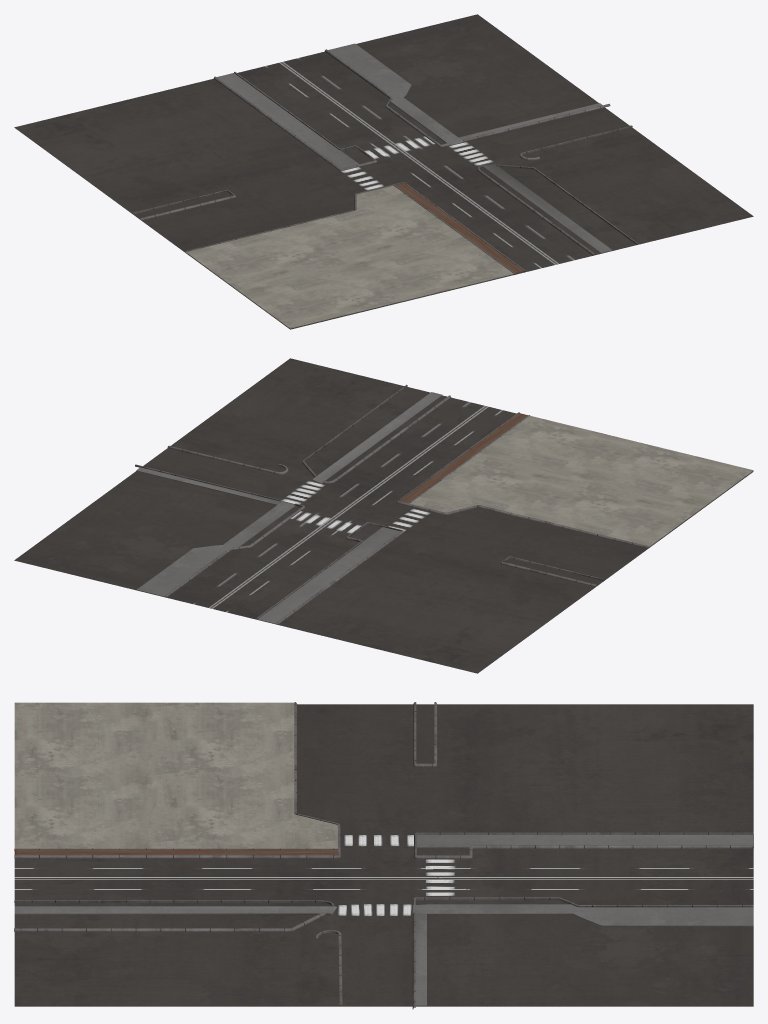
The model's file is road1.fbx.
3 views of the same model, one above another, from view 1: azimuth 30°, elevation 25°; view 2: azimuth 150°, elevation 25°; view 3: azimuth 270°, elevation 25° (orthographic). The views are drawn at different scales.
Parts seen in each view (by area): view 1: Plane.001, Plane.005, Plane.003, Plane.004, Plane.002, Plane.010, Plane.009, Plane.011, Plane.012; view 2: Plane.001, Plane.005, Plane.003, Plane.004, Plane.002, Plane.009, Plane.010, Plane.011, Plane.012; view 3: Plane.001, Plane.005, Plane.003, Plane.004, Plane.002, Plane.010, Plane.009, Plane.007, Plane.012, Plane.008, Plane.015, Plane.011.
Boxes of the visible parts, box(x1,y1,x2,y2) form: Plane.001: box(14, 14, 753, 329); Plane.005: box(186, 183, 524, 328); Plane.003: box(328, 43, 602, 145); Plane.004: box(216, 73, 358, 168); Plane.002: box(483, 164, 612, 252); Plane.010: box(213, 72, 377, 170); Plane.009: box(185, 182, 526, 272); Plane.011: box(132, 189, 236, 220); Plane.012: box(325, 49, 451, 147); Plane.001: box(14, 358, 753, 673); Plane.005: box(399, 413, 753, 546); Plane.003: box(136, 467, 295, 596); Plane.004: box(257, 527, 400, 623); Plane.002: box(313, 392, 442, 483); Plane.009: box(396, 412, 649, 548); Plane.010: box(255, 521, 403, 624); Plane.011: box(501, 556, 604, 586); Plane.012: box(165, 503, 305, 597); Plane.001: box(14, 704, 753, 1006); Plane.005: box(14, 702, 337, 854); Plane.003: box(412, 904, 753, 1005); Plane.004: box(417, 834, 753, 848); Plane.002: box(14, 906, 336, 914); Plane.010: box(414, 832, 753, 858); Plane.009: box(14, 702, 340, 858); Plane.007: box(14, 912, 325, 931); Plane.012: box(412, 897, 753, 907); Plane.008: box(14, 900, 334, 906); Plane.015: box(14, 848, 337, 850); Plane.011: box(413, 702, 437, 766).
Size of the model in its own units: 9879 by 38.9 by 10096.
1 material, 1 textured.
